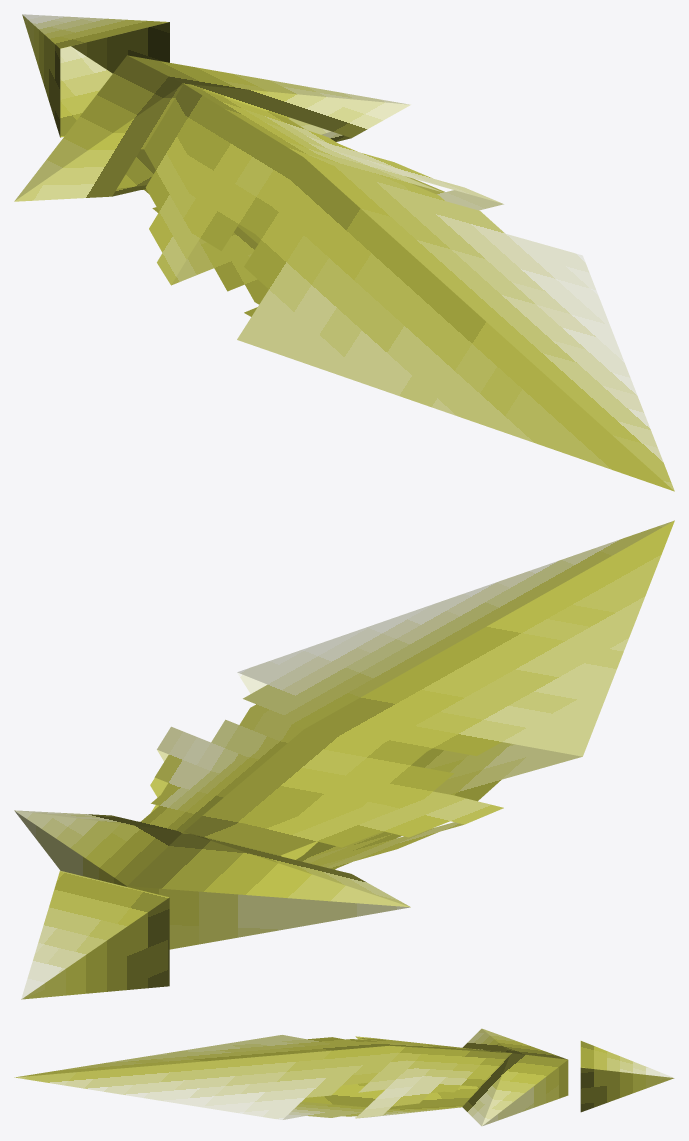
Rendered from AirBall.fbx.
3 renders of one model, top to bottom at view 1: azimuth 30°, elevation 25°; view 2: azimuth 150°, elevation 25°; view 3: azimuth 270°, elevation 25°, orthographic. The views are drawn at different scales.
Visible parts, largest first — view 1: w007; view 2: w007; view 3: w007.
Boxes of the visible parts, left/top/right/bottom form: w007: left=14, top=14, right=674, bottom=491; w007: left=14, top=520, right=674, bottom=999; w007: left=14, top=1028, right=674, bottom=1126.
Bounding box in the file's own units: 232 × 70.13 × 662.
1 material, 1 textured.
